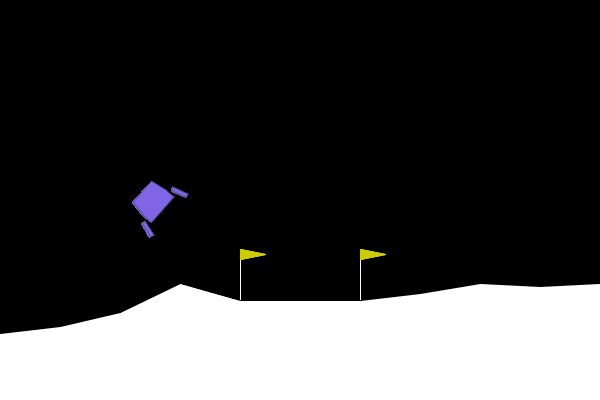lander: (121, 168, 190, 240)
